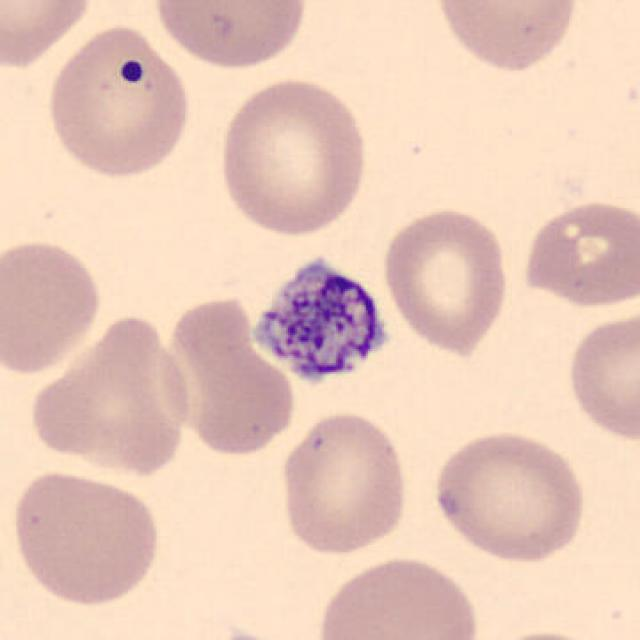Platelets: (246, 247, 398, 395)
RBC: (25, 310, 195, 480), (214, 72, 374, 240), (41, 21, 194, 180), (157, 291, 300, 460), (427, 425, 590, 564), (7, 467, 164, 608), (276, 405, 412, 559), (379, 203, 512, 358), (0, 233, 105, 379), (313, 552, 483, 640), (519, 196, 638, 312), (149, 0, 311, 72), (430, 0, 583, 76), (562, 308, 638, 444), (0, 0, 98, 71), (468, 626, 618, 640)
